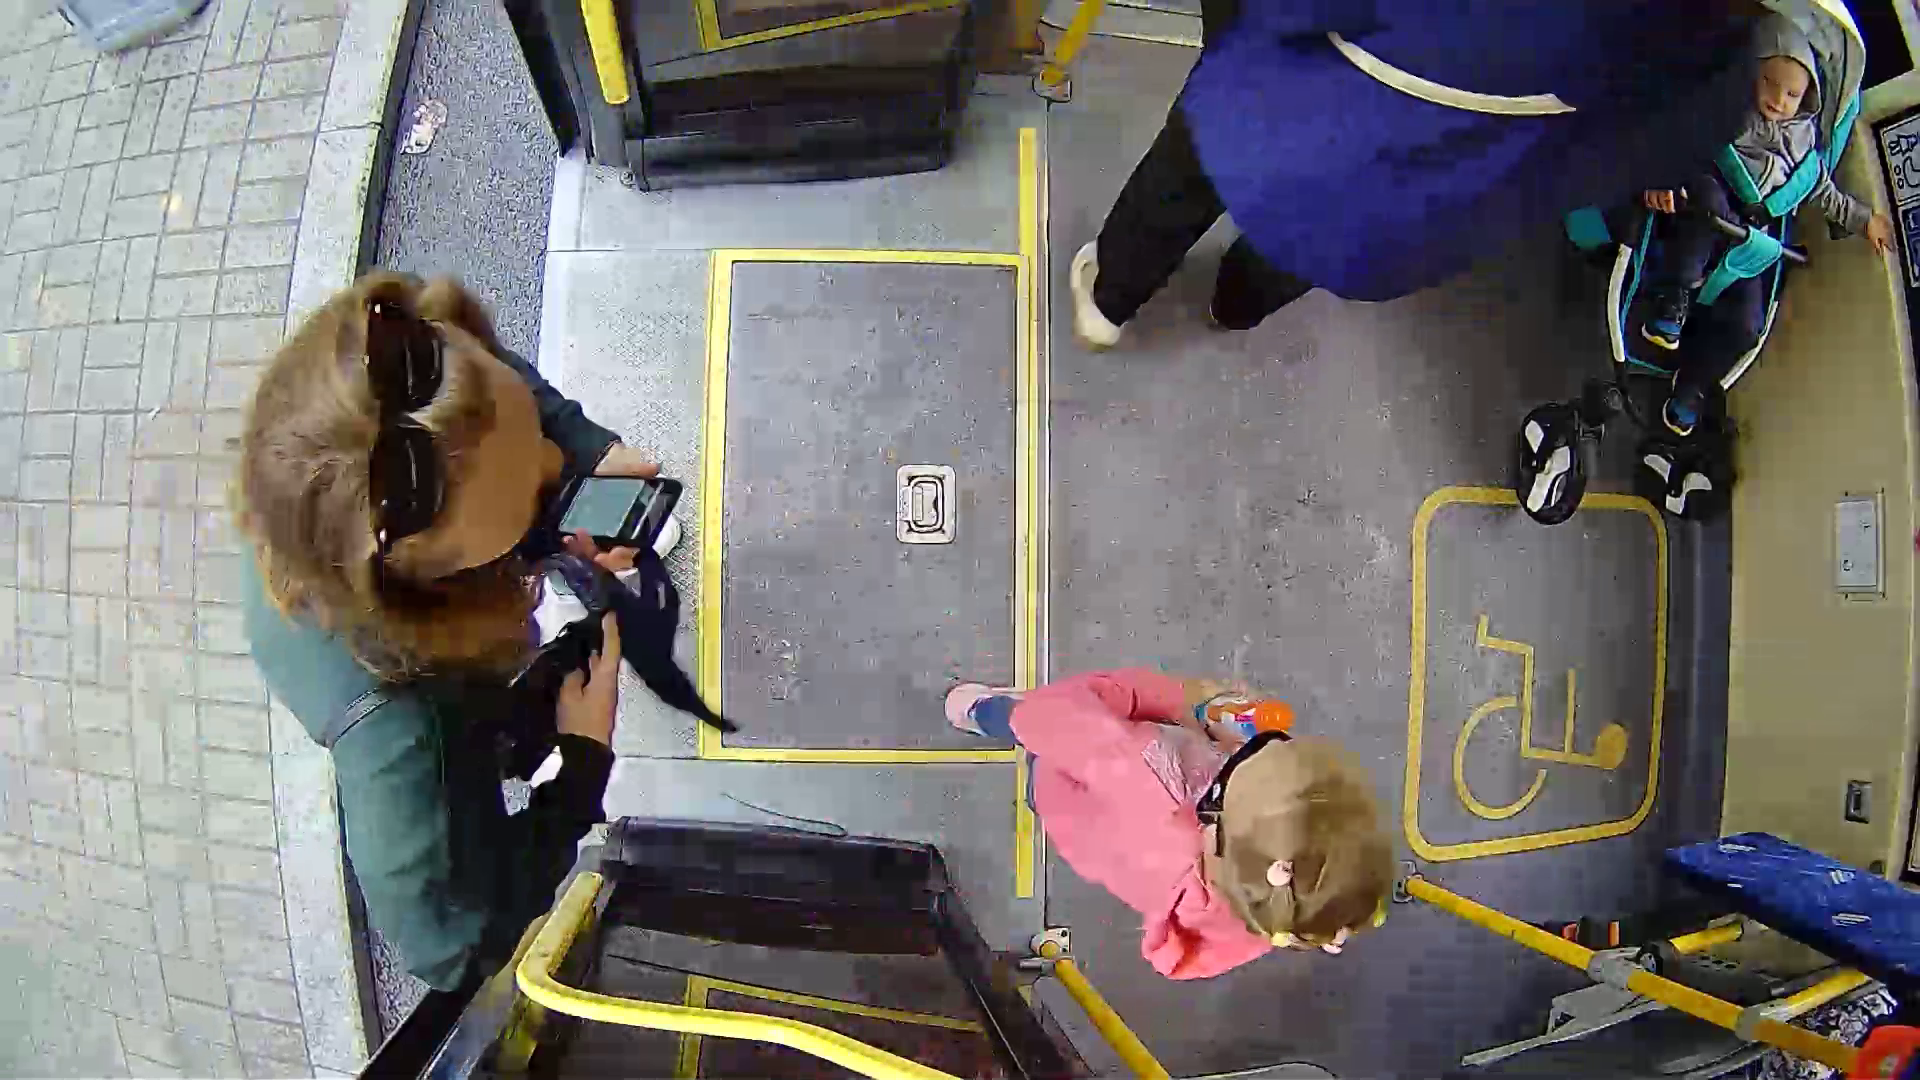person: (211, 319, 739, 892), (966, 586, 1414, 972)
